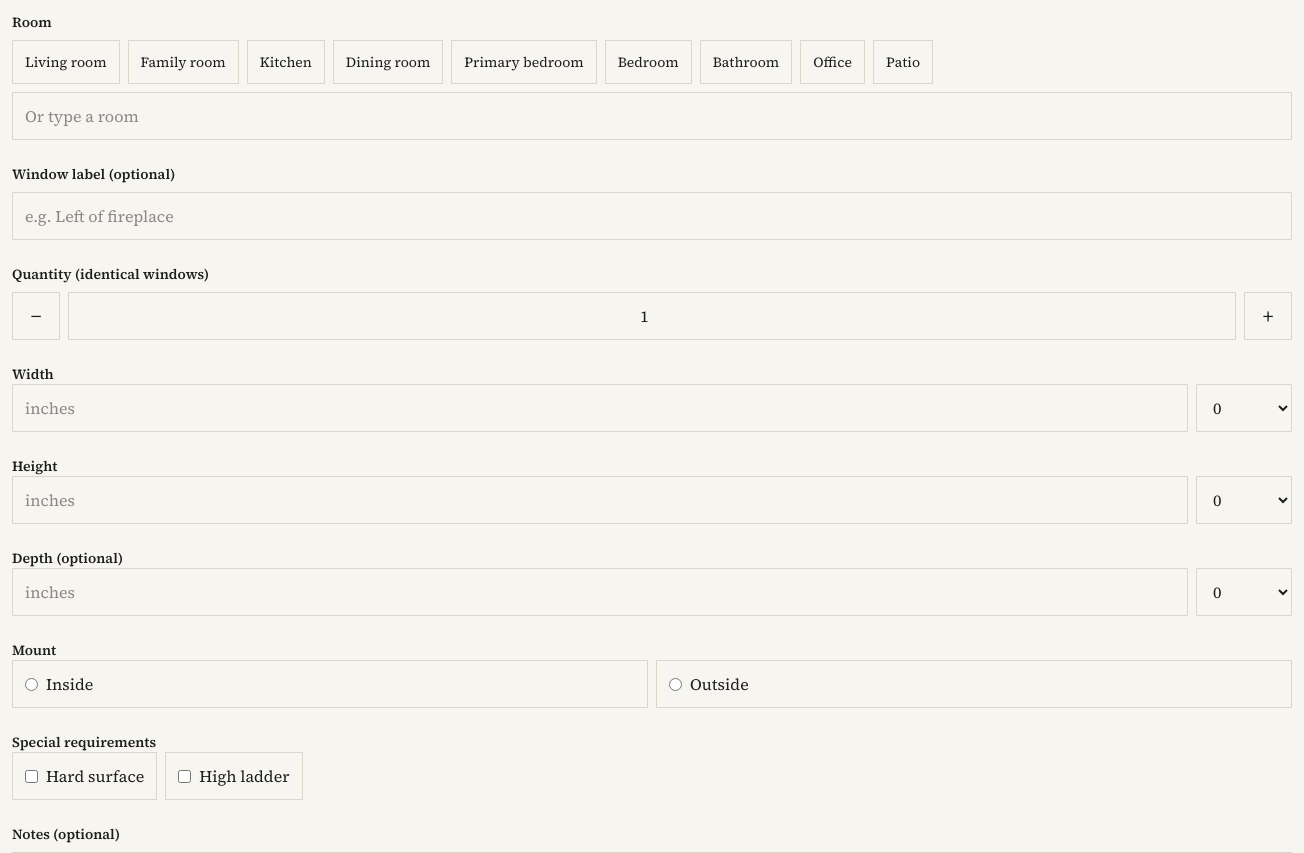
MeasureForm › steps from what the box shows, never below 1
Replace the text in the number field labelled "Quantity (identical windows)" with "0" at (652, 316), box [68, 292, 1236, 340]
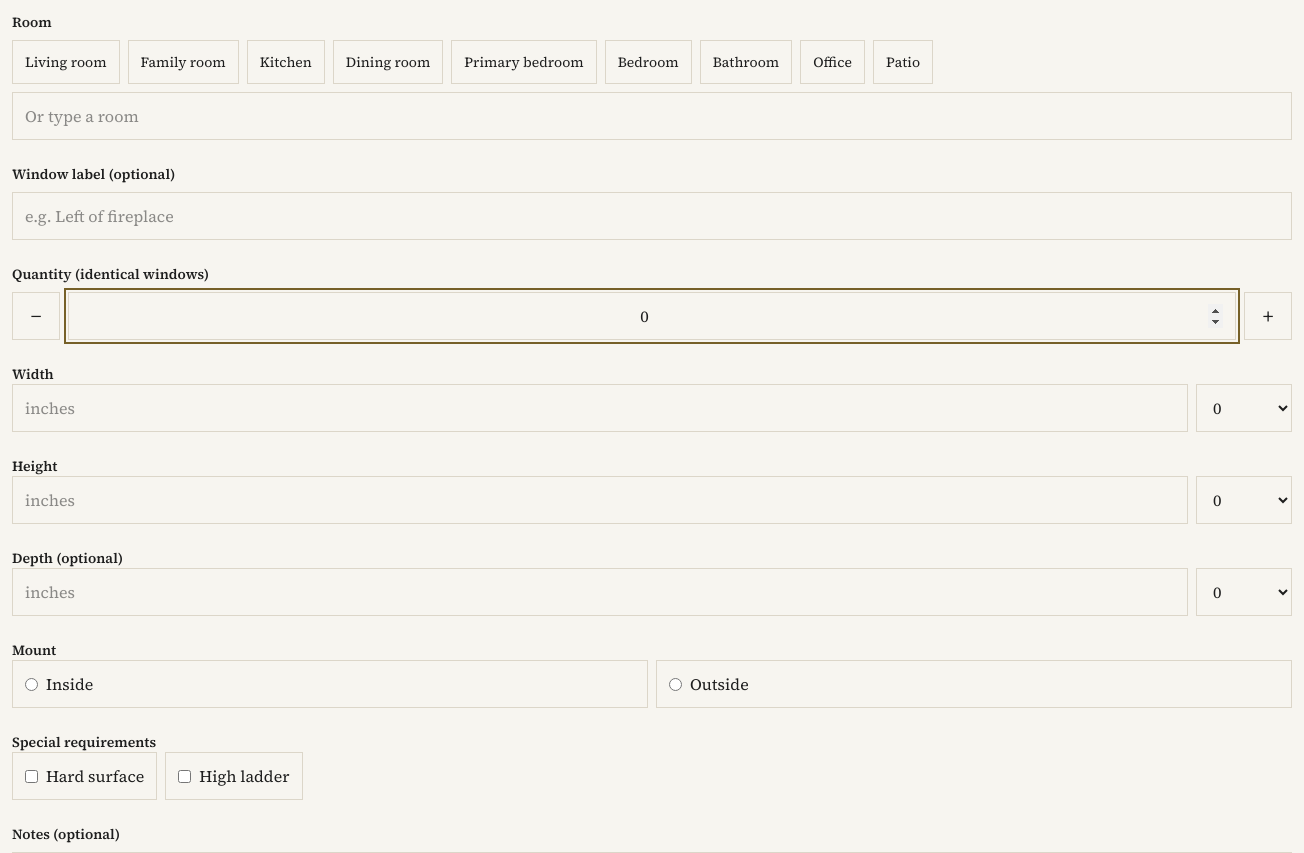
Click the button named "One more" at (1268, 316), box [1244, 292, 1292, 340]
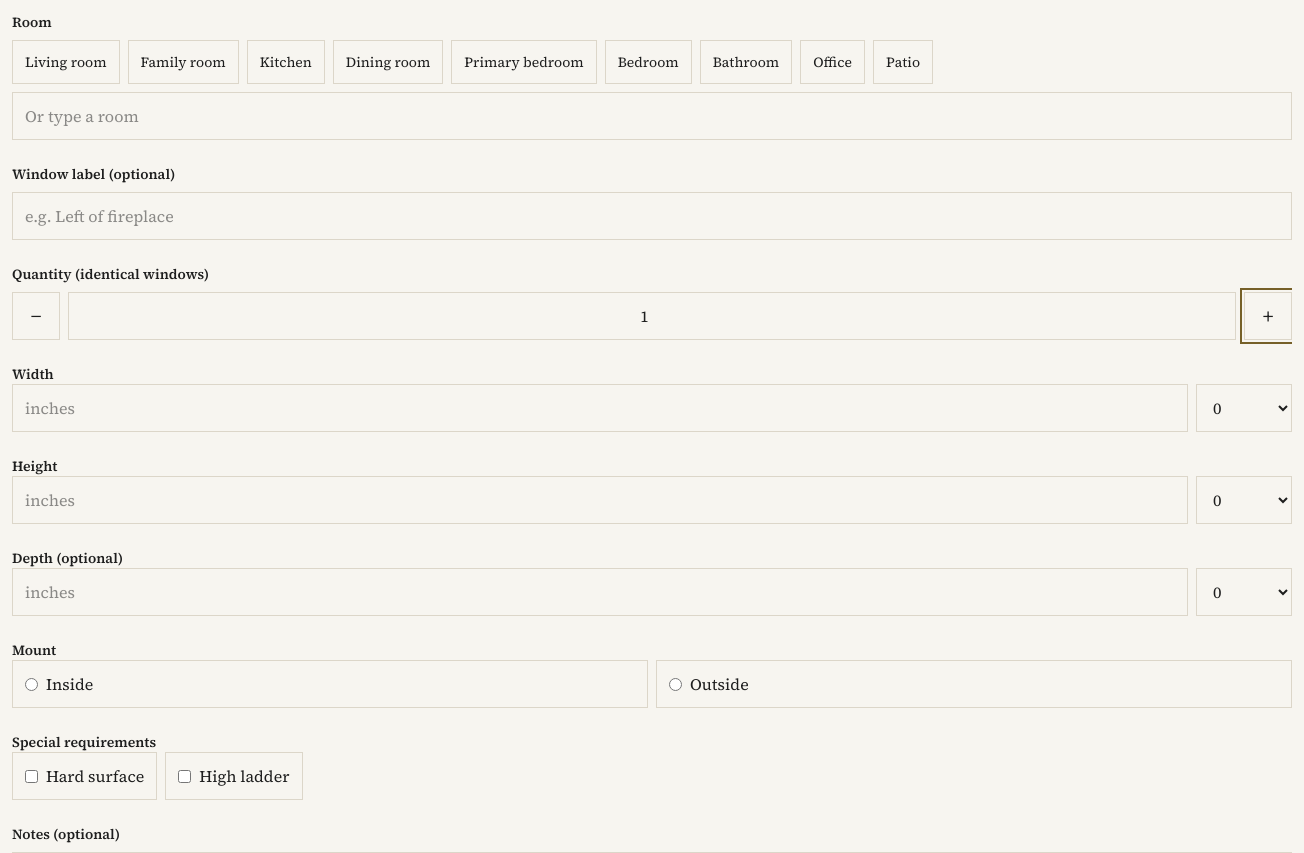
Now the number field labelled "Quantity (identical windows)" holds "1"
Replace the text in the number field labelled "Quantity (identical windows)" with "12" at (652, 316), box [68, 292, 1236, 340]
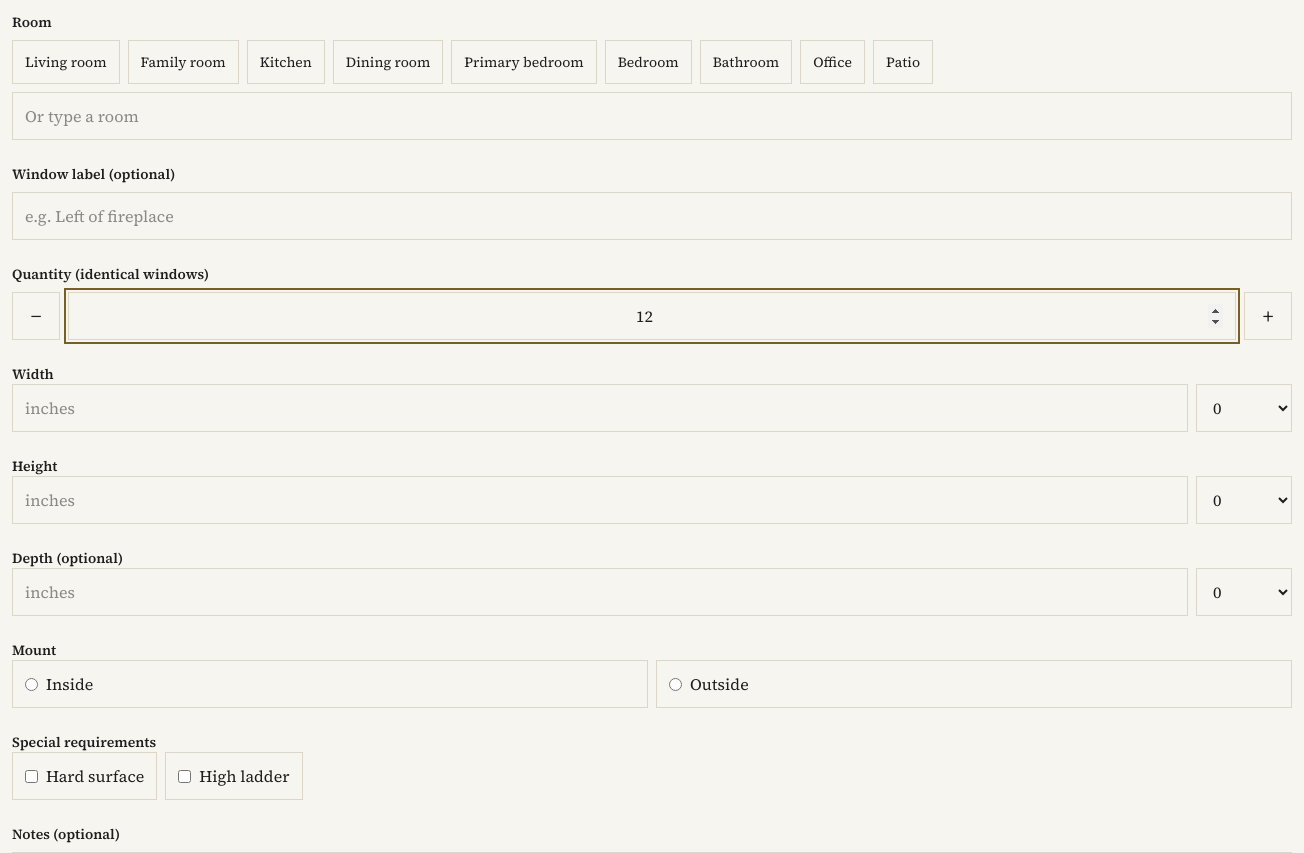
Click the button named "One more" at (1268, 316), box [1244, 292, 1292, 340]
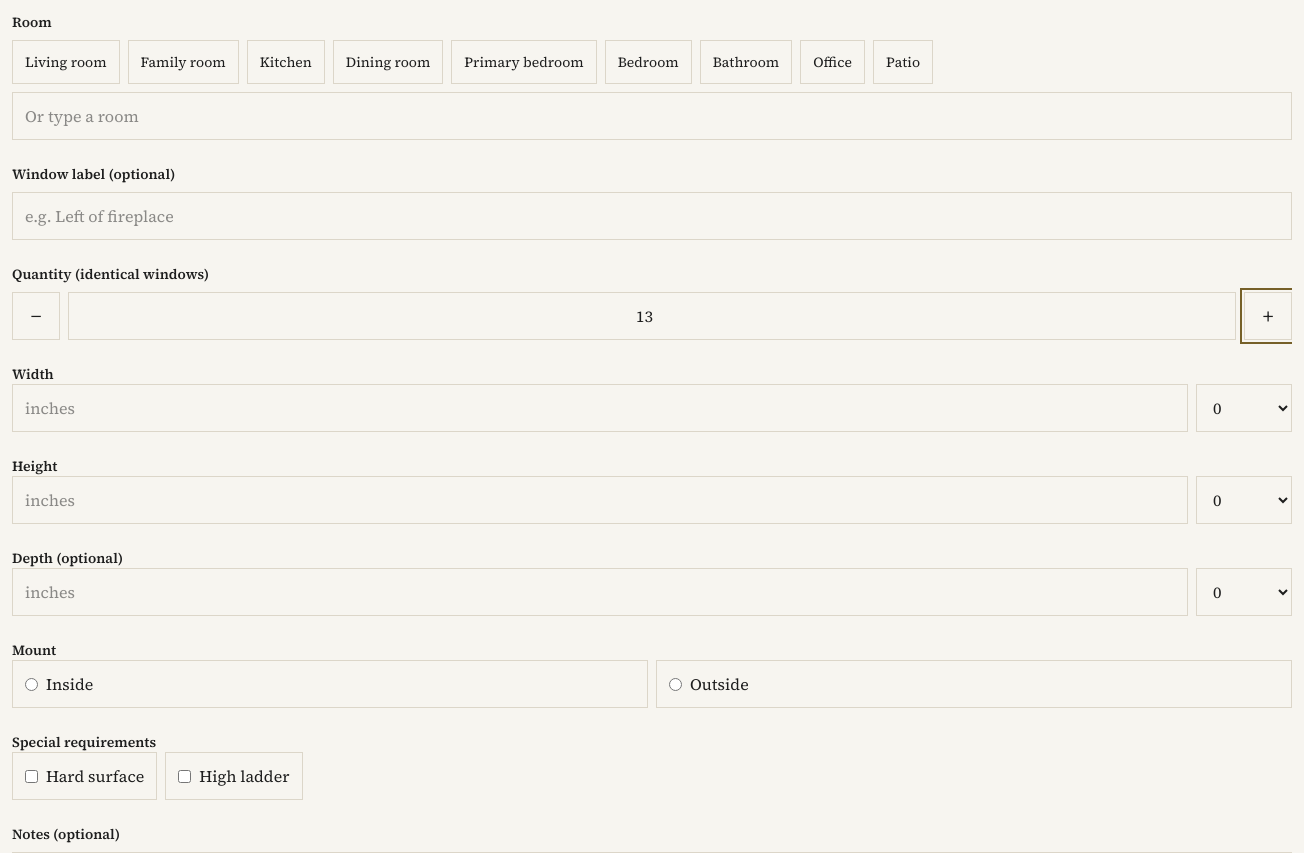
Now the number field labelled "Quantity (identical windows)" holds "13", box [68, 292, 1236, 340]
